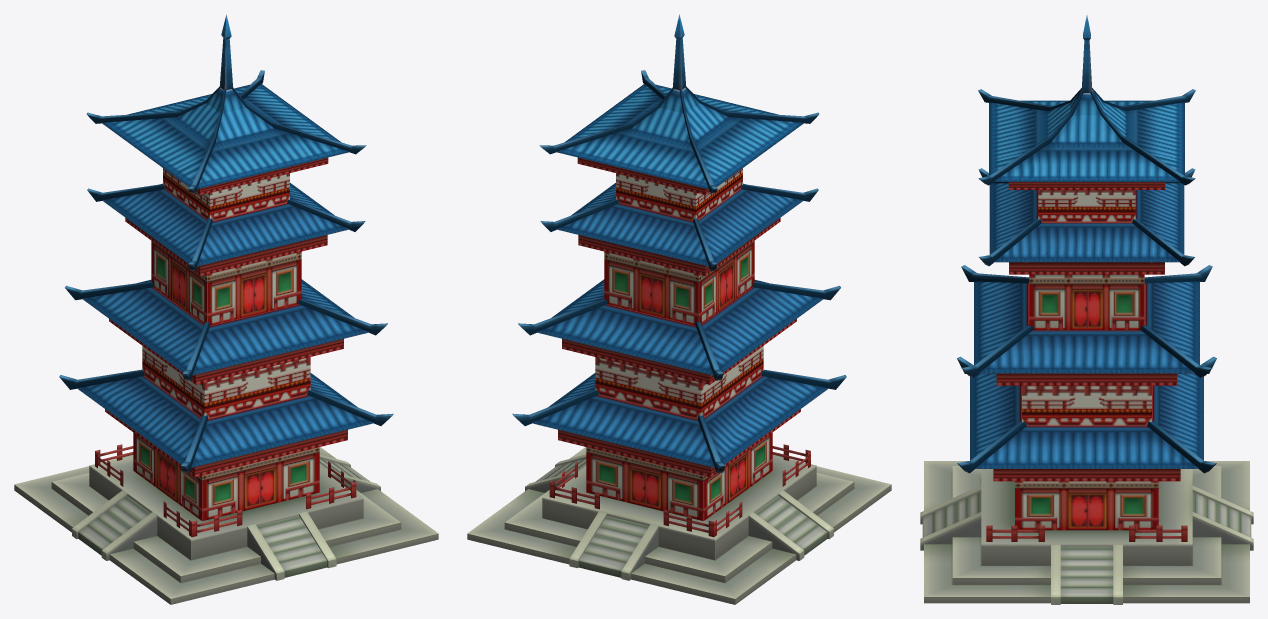
The model's file is tower.FBX.
3 views of the same model, side by side, from view 1: azimuth 30°, elevation 25°; view 2: azimuth 150°, elevation 25°; view 3: azimuth 270°, elevation 25° (orthographic). The views are drawn at different scales.
Visible parts, largest first — view 1: tower; view 2: tower; view 3: tower.
Part boxes in pixels (bbox=[...]): tower: bbox=[14, 14, 438, 604]; tower: bbox=[467, 14, 891, 604]; tower: bbox=[920, 15, 1253, 604].
Bounding box in the file's own units: 165447 × 288426 × 167229.
